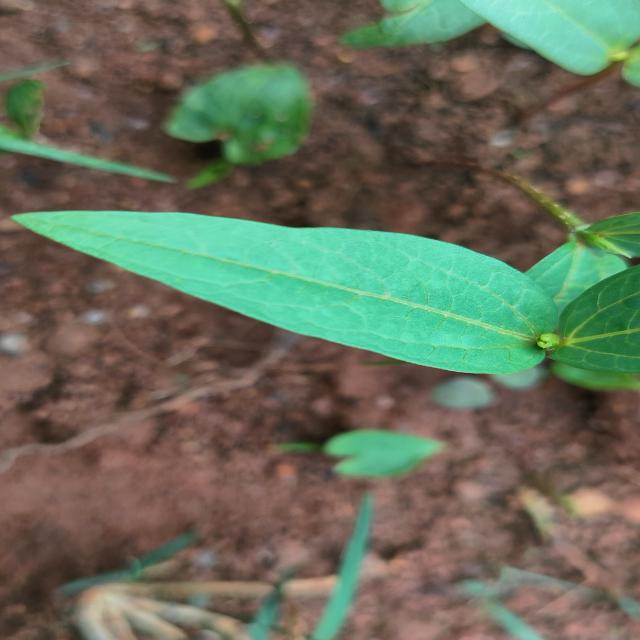Black gram_healthy: (14, 204, 548, 382)
